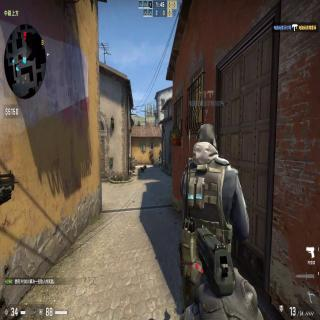CT-Head: (196, 121, 217, 152)
T-Head: (159, 150, 161, 152)
